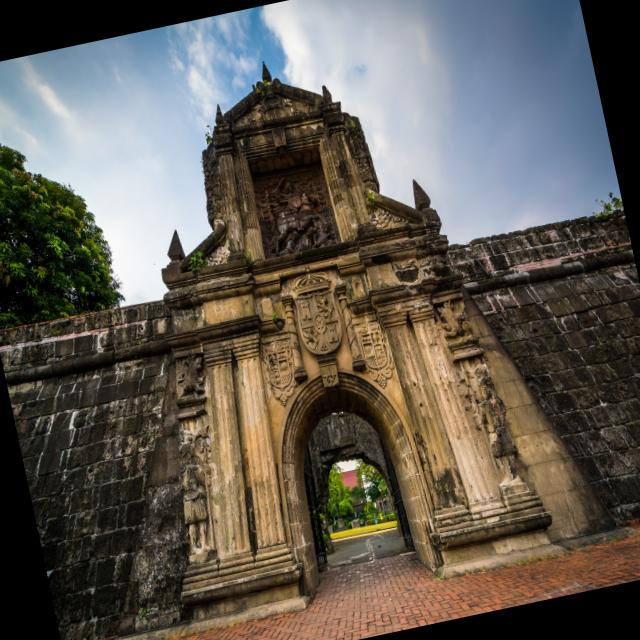Fort Santiago: (0, 59, 640, 640)
